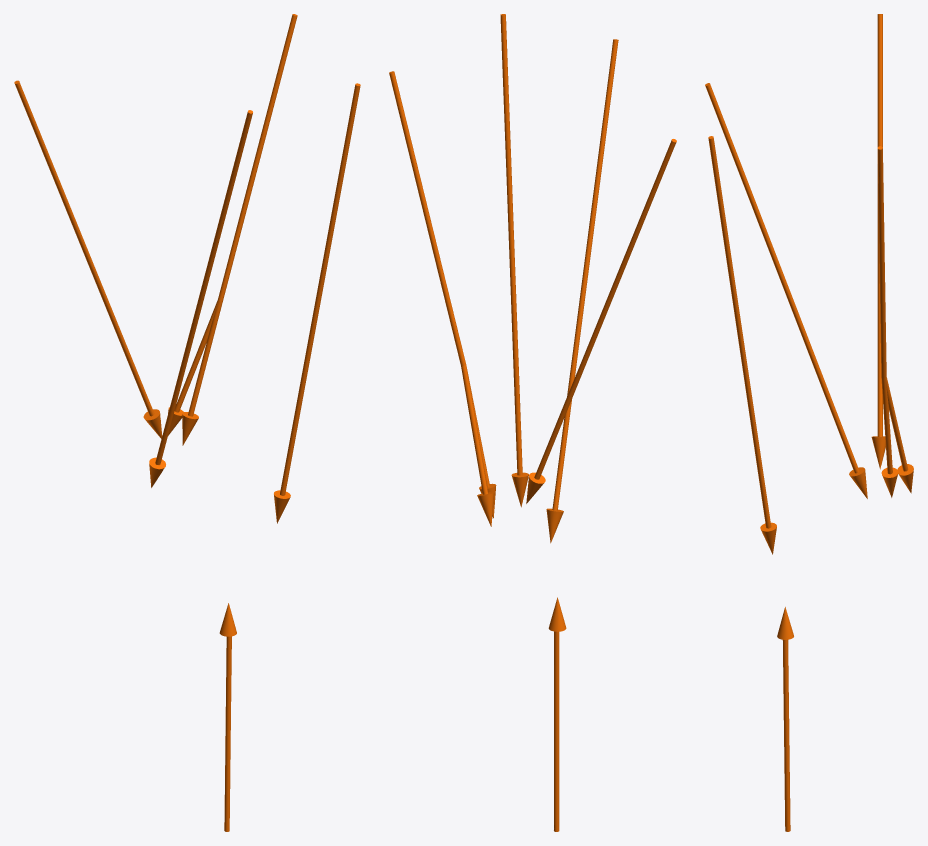
The model's file is s2arrow.glb.
The picture shows the model from 3 angles, left to right: view 1: azimuth 30°, elevation 25°; view 2: azimuth 150°, elevation 25°; view 3: azimuth 270°, elevation 25°; orthographic projection. The views are drawn at different scales.
Parts seen in each view (by area): view 1: Node; view 2: Node; view 3: Node.
Part boxes in pixels (bbox=[...]): Node: bbox=[14, 14, 360, 831]; Node: bbox=[389, 14, 676, 831]; Node: bbox=[705, 14, 913, 831].
Bounding box in the file's own units: 7.17 × 18.29 × 4.68.
